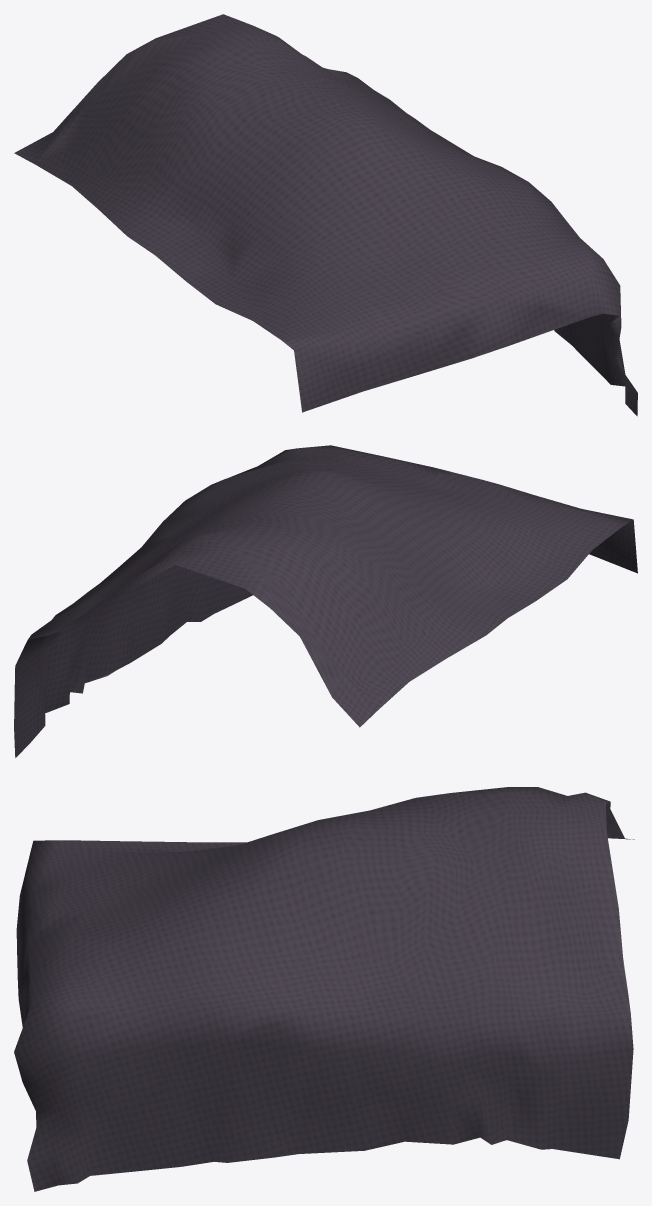
The model's file is SM_prop_Laboratory_Bed_edit.fbx.
3 renders of one model, top to bottom at view 1: azimuth 30°, elevation 25°; view 2: azimuth 150°, elevation 25°; view 3: azimuth 270°, elevation 25°, orthographic. The views are drawn at different scales.
Parts seen in each view (by area): view 1: SM_prop_Laboratory_Blenket_low; view 2: SM_prop_Laboratory_Blenket_low; view 3: SM_prop_Laboratory_Blenket_low.
Boxes of the visible parts, box(x1,y1,x2,y2) form: SM_prop_Laboratory_Blenket_low: box(14, 14, 637, 416); SM_prop_Laboratory_Blenket_low: box(14, 445, 637, 757); SM_prop_Laboratory_Blenket_low: box(14, 787, 634, 1191).
Bounding box in the file's own units: 110 × 74.39 × 148.
1 material, 1 textured.
